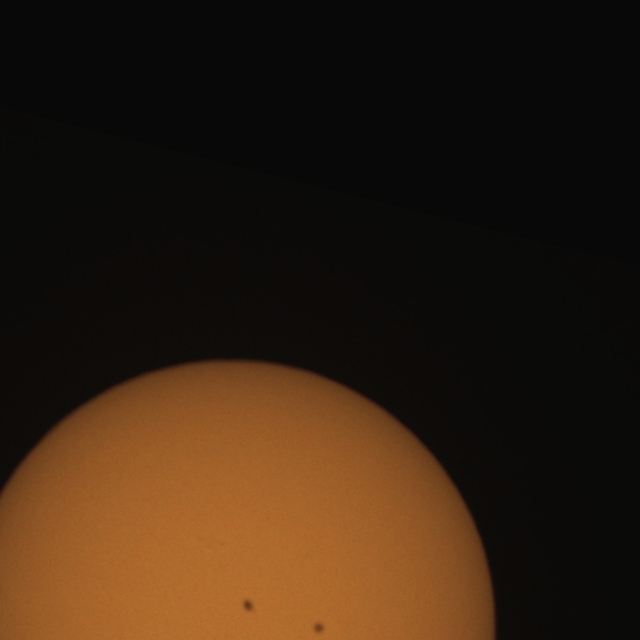sunspot: (311, 620, 326, 636), (241, 598, 255, 614)
